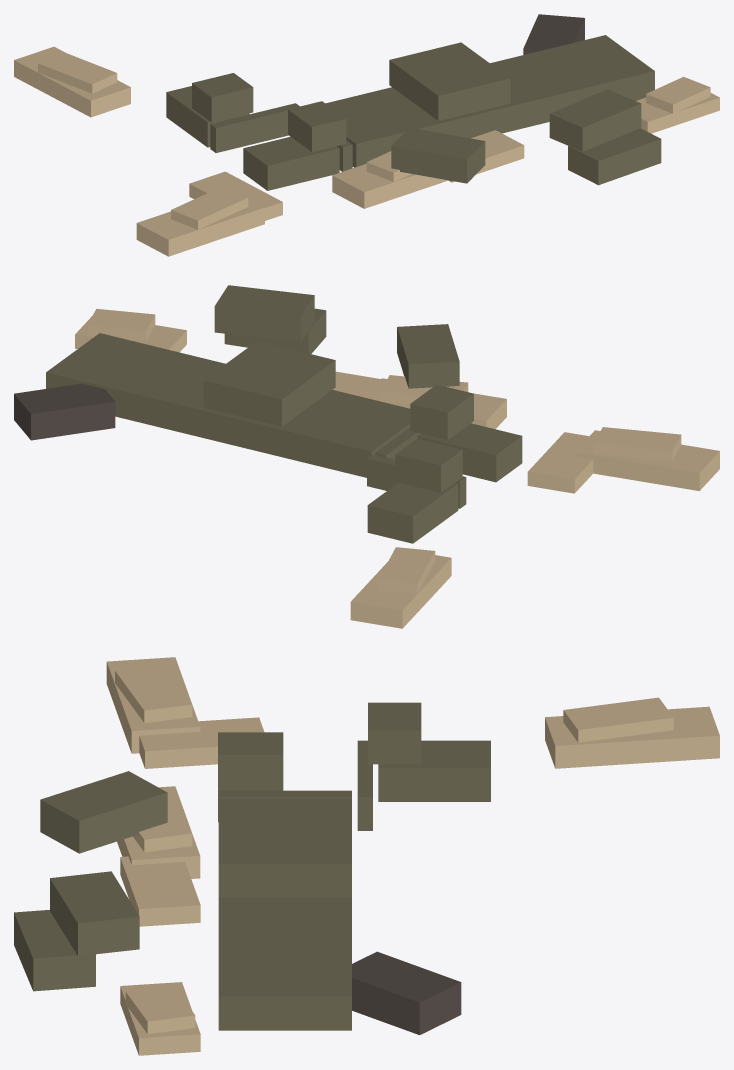
File: SM_SacosRemate_v1_Talud_e2_MuyDanado_LOD1.fbx
3 views of the same model, one above another, from view 1: azimuth 30°, elevation 25°; view 2: azimuth 150°, elevation 25°; view 3: azimuth 270°, elevation 25° (orthographic). The views are drawn at different scales.
Visible parts, largest first — view 1: SM_sacos_piezas_v26_LOD1; view 2: SM_sacos_piezas_v26_LOD1; view 3: SM_sacos_piezas_v26_LOD1.
Part boxes in pixels (bbox=[...]): SM_sacos_piezas_v26_LOD1: bbox=[14, 14, 719, 256]; SM_sacos_piezas_v26_LOD1: bbox=[14, 285, 719, 628]; SM_sacos_piezas_v26_LOD1: bbox=[14, 657, 719, 1055].
Size of the model in its own units: 6.41 by 0.585 by 5.09.
